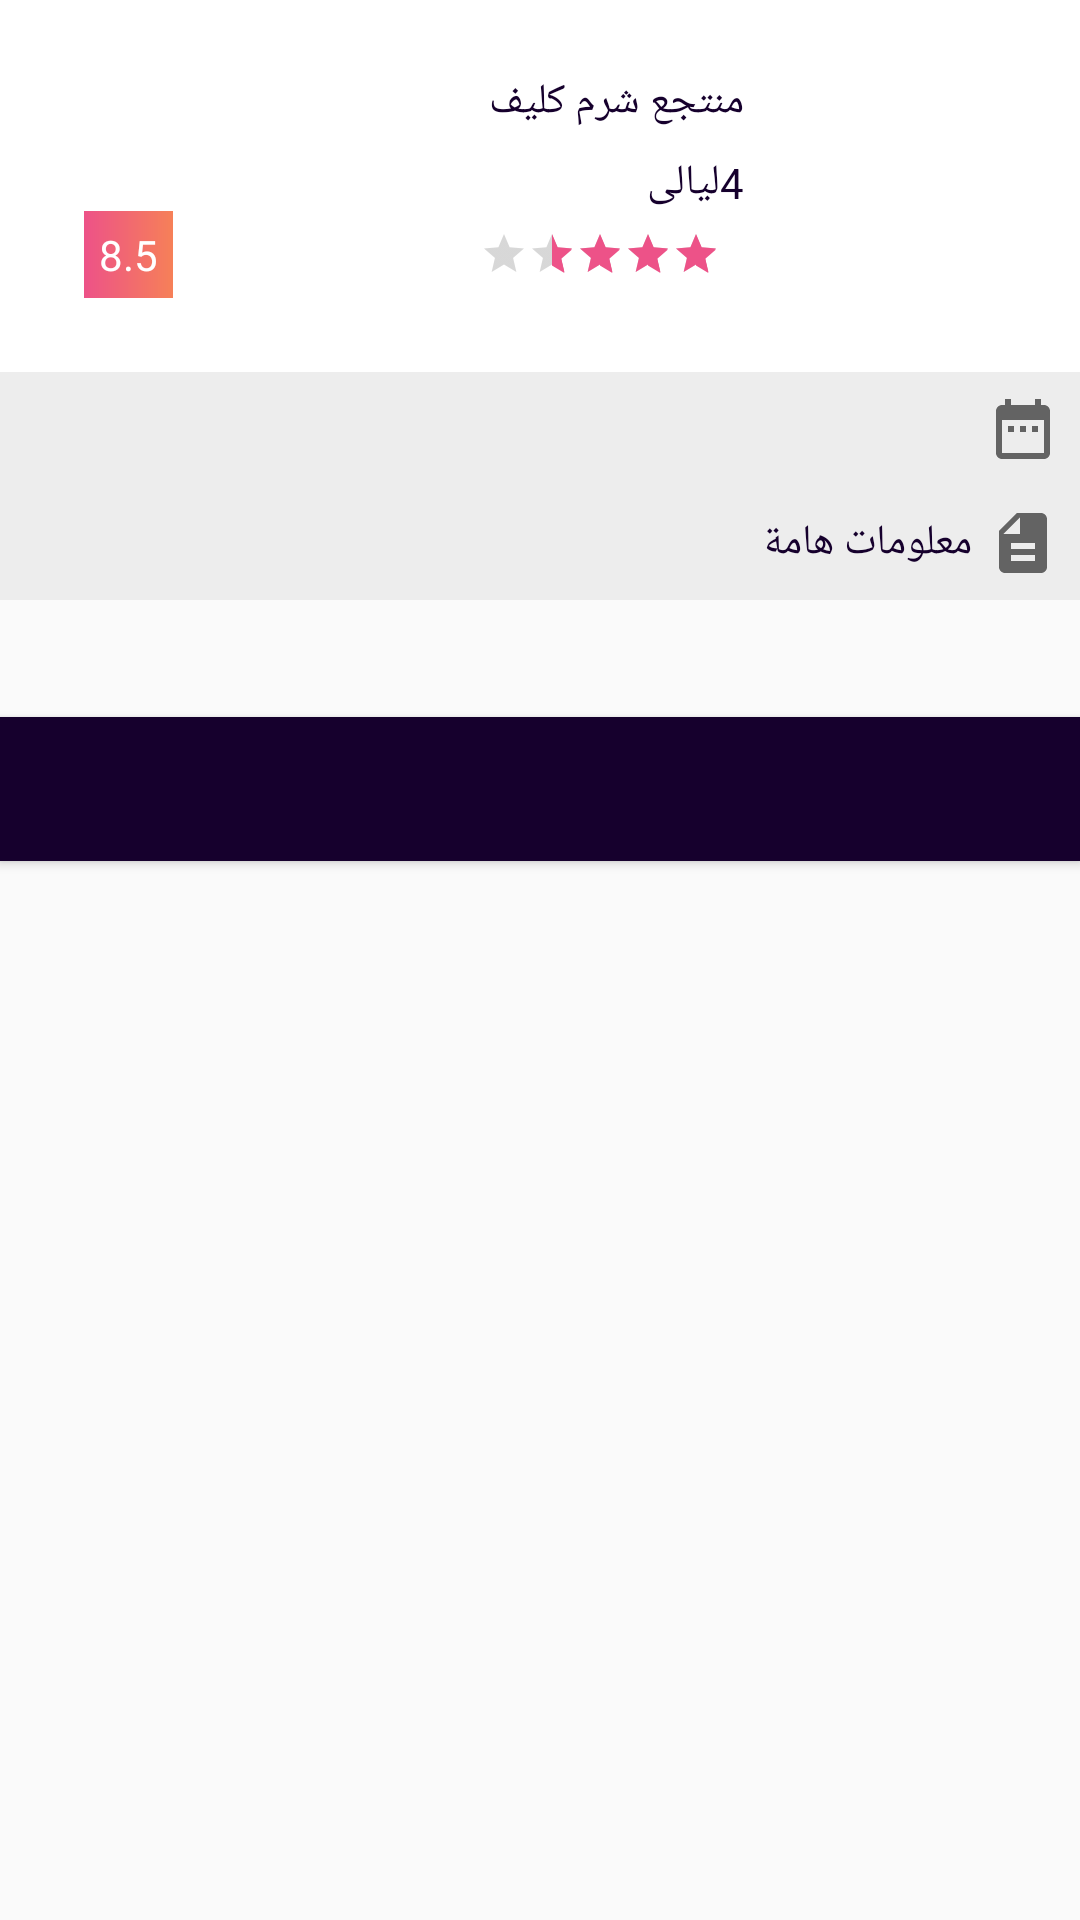

Point at icon controls on the screen. Image size 1080px x 1920px, points as (x=x, y=y).
date range: (x=1023, y=429)
description: (x=1023, y=543)
